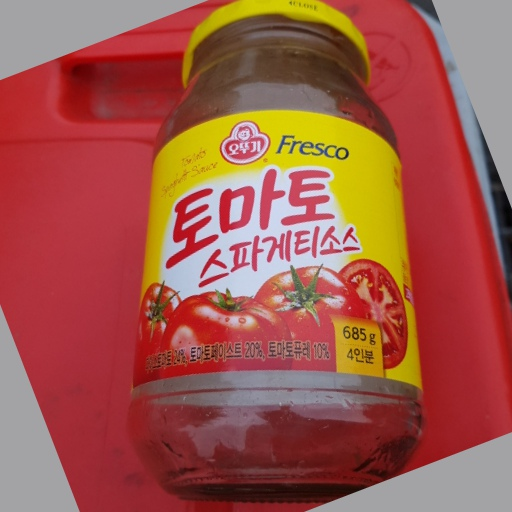Glass_5: (126, 1, 422, 493)
